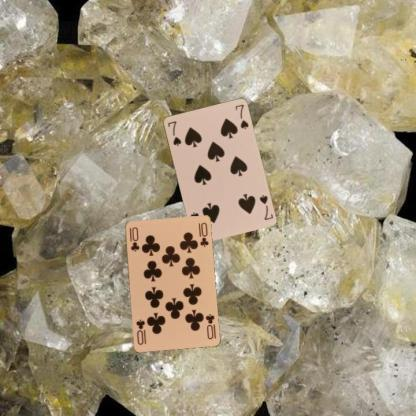10c: (202, 312, 216, 340), (127, 224, 140, 253)
7s: (256, 192, 274, 222), (165, 118, 182, 147)
